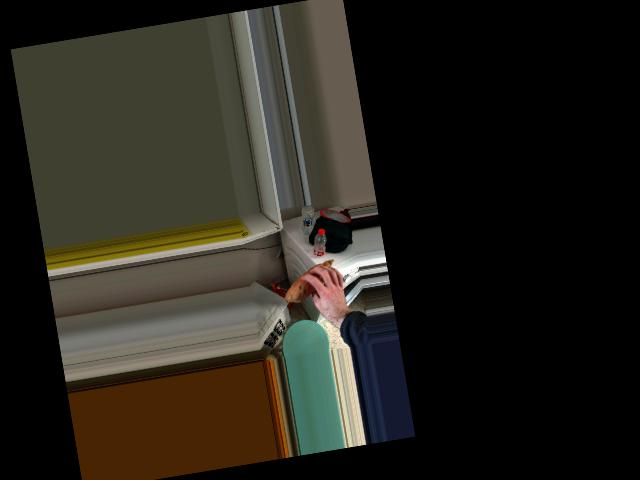sweet_potato: (282, 261, 341, 304)
